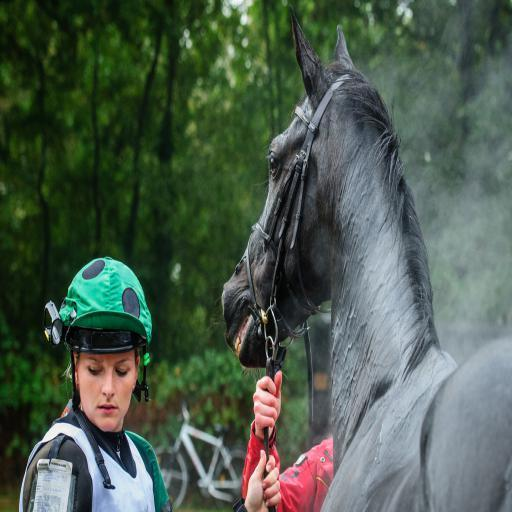horse: (220, 9, 512, 511)
